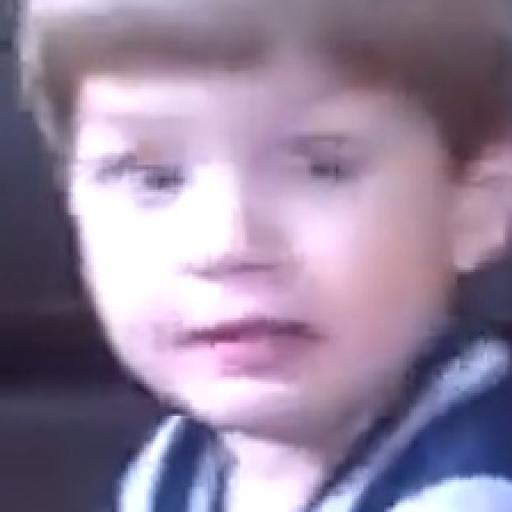Autism: (44, 9, 512, 437)
